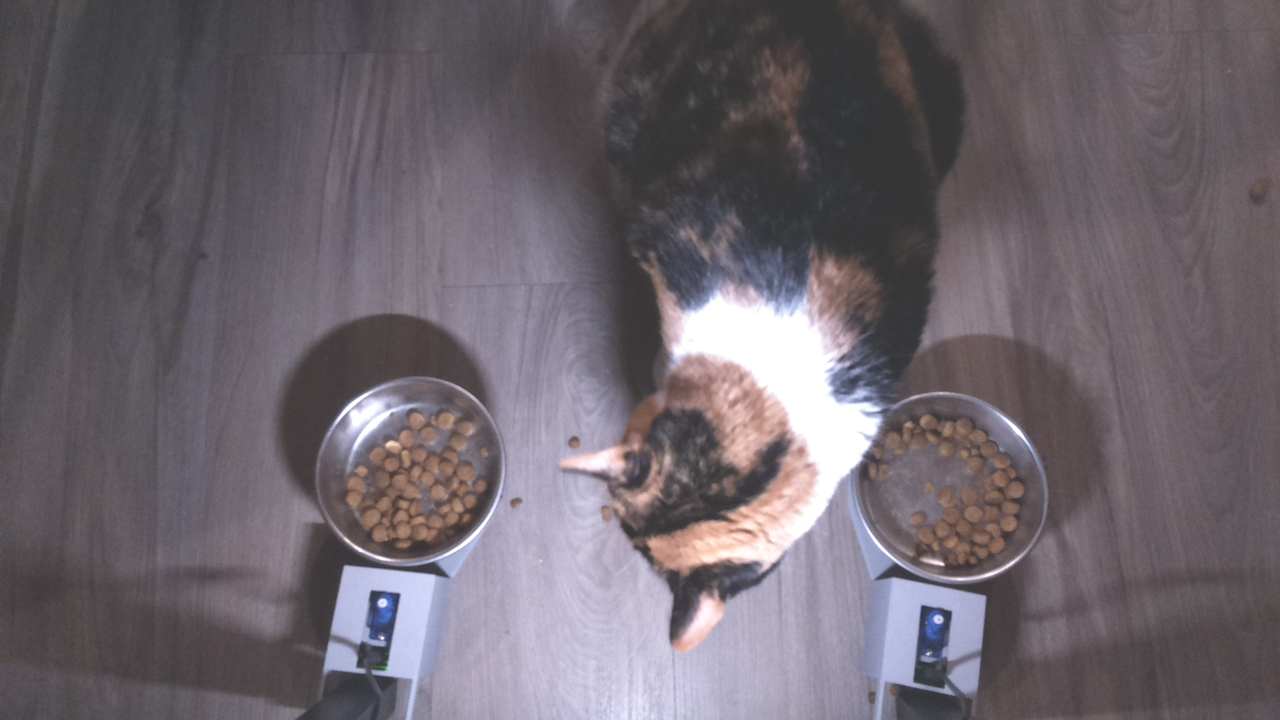bella: (551, 355, 839, 653)
open_bowl: (851, 386, 1058, 591), (313, 372, 506, 570)
